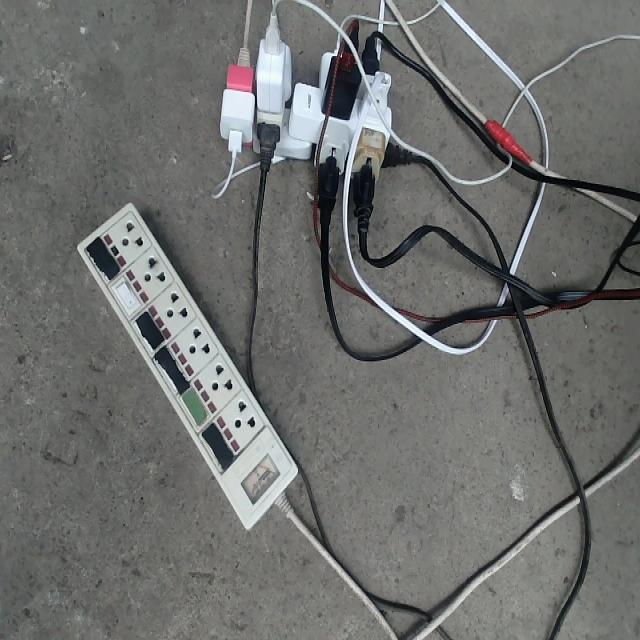-: (219, 21, 401, 215)
